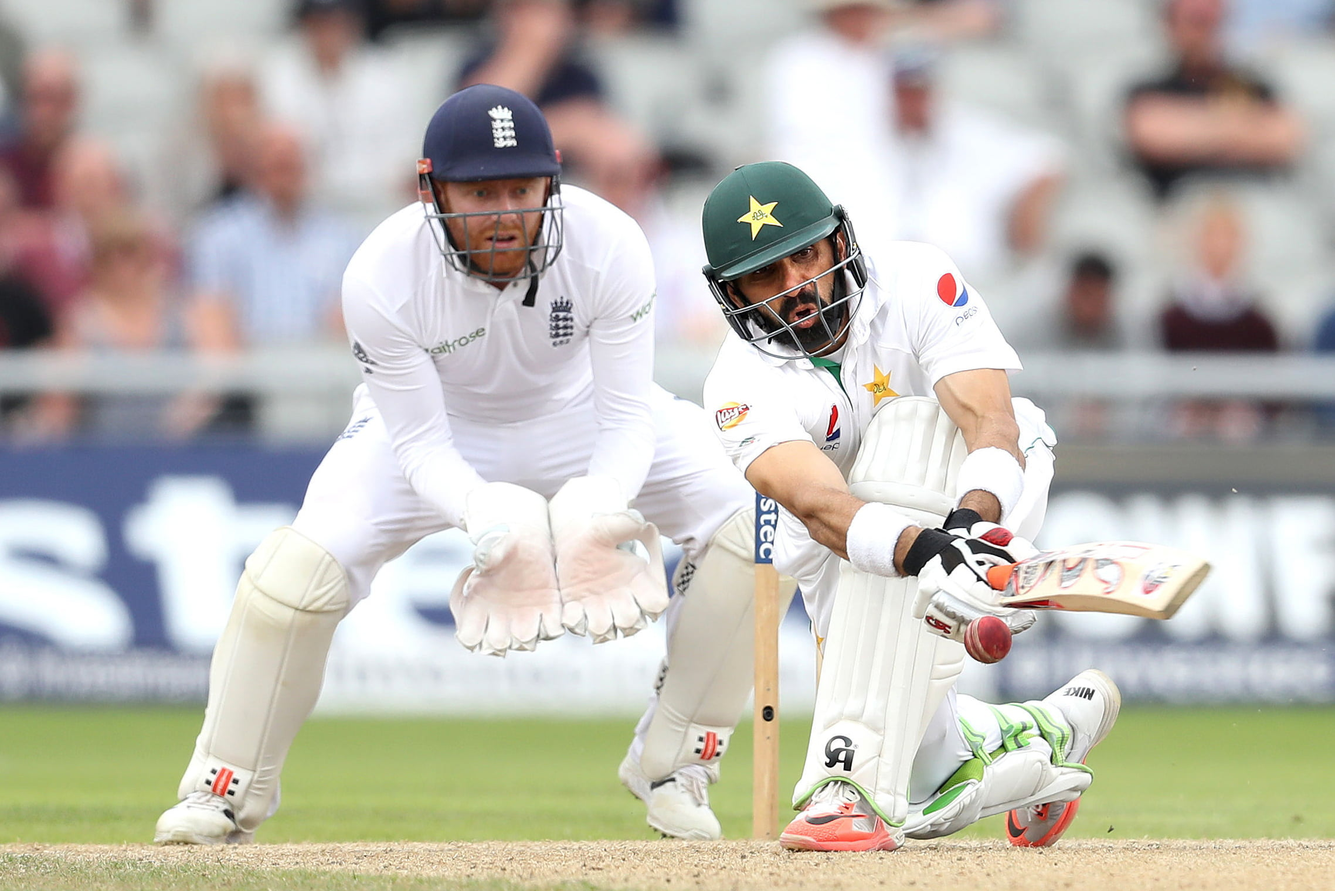Sweepshot: (152, 10, 1289, 891)
